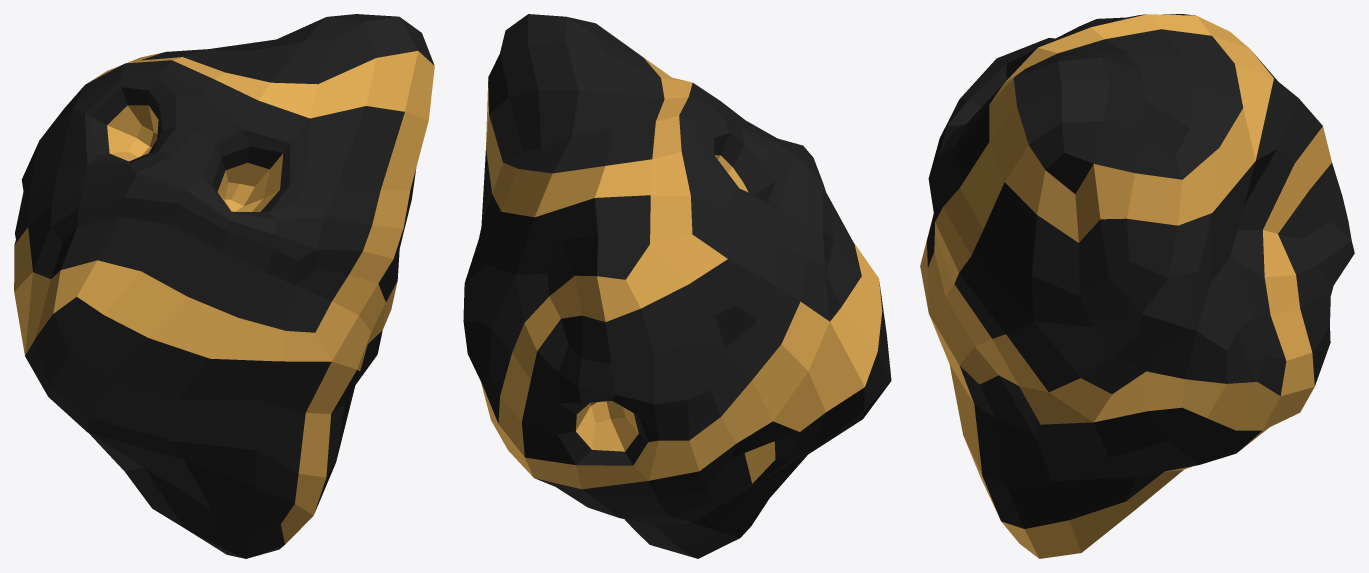
Rendered from Asteroid 2 gold.fbx.
The picture shows the model from 3 angles, left to right: view 1: azimuth 30°, elevation 25°; view 2: azimuth 150°, elevation 25°; view 3: azimuth 270°, elevation 25°; orthographic projection. The views are drawn at different scales.
Visible parts, largest first — view 1: Retopo_Icosphere; view 2: Retopo_Icosphere; view 3: Retopo_Icosphere.
Boxes of the visible parts, left/top/right/bottom form: Retopo_Icosphere: left=14, top=14, right=434, bottom=558; Retopo_Icosphere: left=463, top=14, right=891, bottom=558; Retopo_Icosphere: left=920, top=14, right=1354, bottom=558.
Size of the model in its own units: 530 by 663 by 477.
